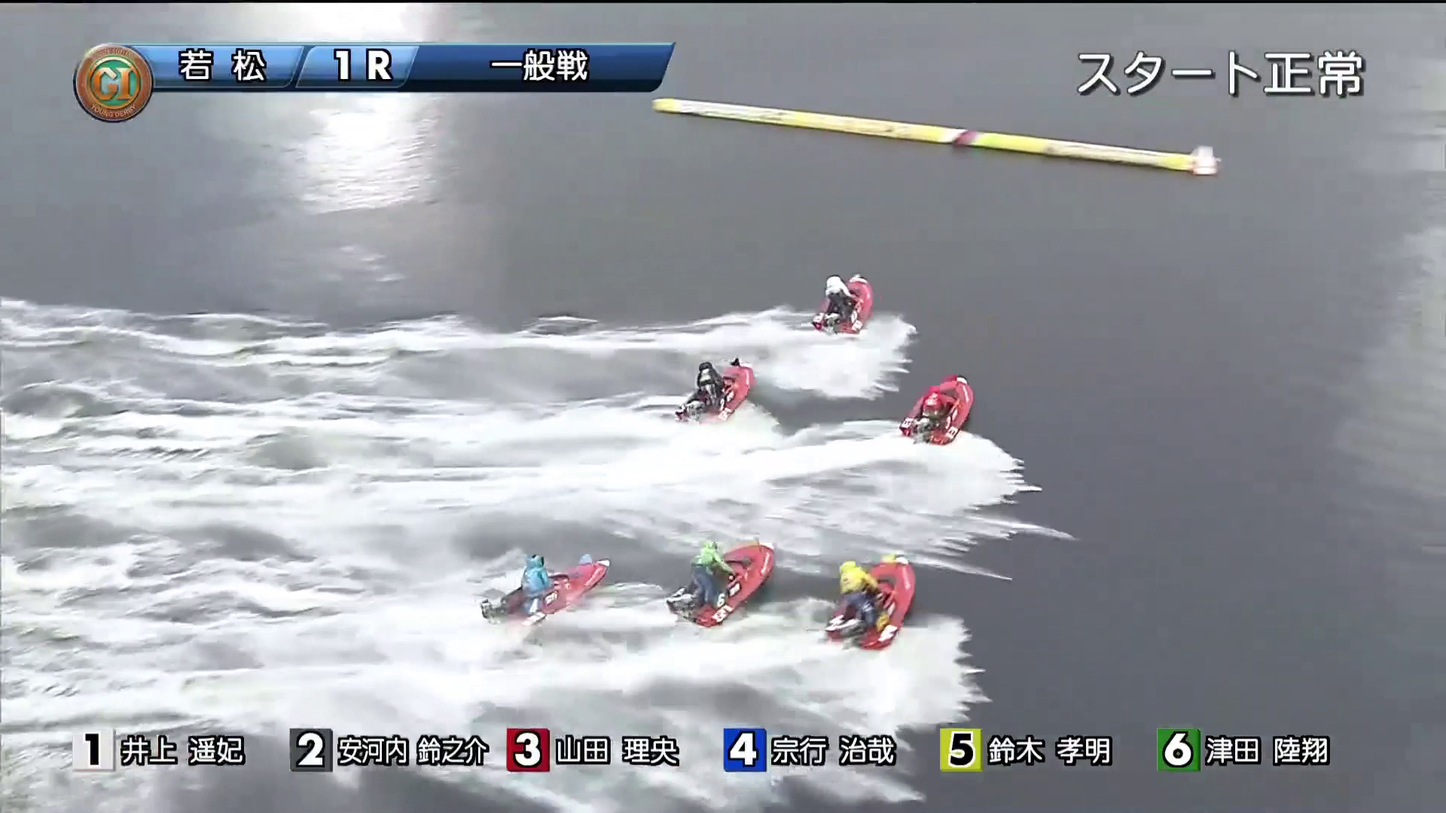１号艇: (795, 273, 910, 327)
２号艇: (653, 354, 782, 415)
３号艇: (884, 390, 1010, 437)
４号艇: (638, 541, 772, 607)
５号艇: (451, 562, 575, 617)
６号艇: (817, 560, 917, 616)
